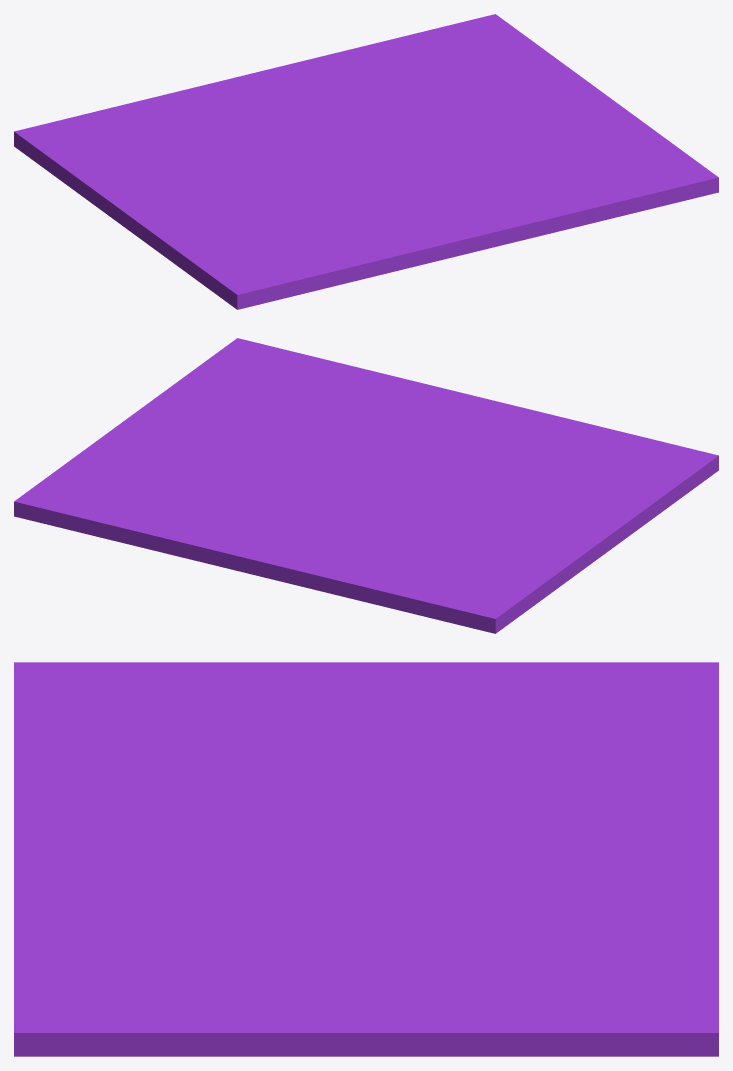
The model's file is Platform_17_chunks.fbx.
The picture shows the model from 3 angles, top to bottom: view 1: azimuth 30°, elevation 25°; view 2: azimuth 150°, elevation 25°; view 3: azimuth 270°, elevation 25°; orthographic projection. The views are drawn at different scales.
Parts seen in each view (by area): view 1: Platform_17_8, Platform_17_13, Platform_17_11, Platform_17_1, Platform_17_14, Platform_17_7, Platform_17_9, Platform_17_16, Platform_17_0, Platform_17_15, Platform_17_3, Platform_17_6 (+6 smaller); view 2: Platform_17_1, Platform_17_8, Platform_17_11, Platform_17_7, Platform_17_0, Platform_17_13, Platform_17_14, Platform_17_9, Platform_17_16, Platform_17_15, Platform_17_3, Platform_17_6 (+6 smaller); view 3: Platform_17_1, Platform_17_13, Platform_17_14, Platform_17_8, Platform_17_11, Platform_17_7, Platform_17_9, Platform_17_0, Platform_17_16, Platform_17_3, Platform_17_15, Platform_17_5 (+6 smaller).
Part boxes in pixels (x1=…): Platform_17_8: x1=267, y1=178, x2=422, y2=301; Platform_17_13: x1=506, y1=140, x2=718, y2=237; Platform_17_11: x1=371, y1=165, x2=543, y2=264; Platform_17_1: x1=167, y1=39, x2=391, y2=123; Platform_17_14: x1=474, y1=95, x2=667, y2=169; Platform_17_7: x1=407, y1=14, x2=558, y2=97; Platform_17_9: x1=72, y1=144, x2=374, y2=196; Platform_17_16: x1=22, y1=143, x2=218, y2=224; Platform_17_0: x1=14, y1=94, x2=225, y2=151; Platform_17_15: x1=121, y1=210, x2=269, y2=309; Platform_17_3: x1=198, y1=120, x2=384, y2=156; Platform_17_6: x1=382, y1=94, x2=568, y2=146; Platform_17_1: x1=118, y1=493, x2=373, y2=595; Platform_17_8: x1=411, y1=412, x2=688, y2=483; Platform_17_11: x1=327, y1=381, x2=540, y2=468; Platform_17_7: x1=14, y1=454, x2=206, y2=535; Platform_17_0: x1=338, y1=542, x2=510, y2=633; Platform_17_13: x1=187, y1=338, x2=412, y2=419; Platform_17_14: x1=125, y1=375, x2=327, y2=453; Platform_17_9: x1=373, y1=463, x2=502, y2=590; Platform_17_16: x1=493, y1=518, x2=602, y2=627; Platform_17_15: x1=575, y1=448, x2=718, y2=554; Platform_17_3: x1=299, y1=476, x2=441, y2=545; Platform_17_6: x1=161, y1=430, x2=340, y2=490; Platform_17_1: x1=495, y1=779, x2=718, y2=952; Platform_17_13: x1=14, y1=898, x2=207, y2=1056; Platform_17_14: x1=173, y1=909, x2=375, y2=1056; Platform_17_8: x1=14, y1=685, x2=285, y2=833; Platform_17_11: x1=14, y1=799, x2=310, y2=916; Platform_17_7: x1=437, y1=937, x2=718, y2=1054; Platform_17_9: x1=283, y1=685, x2=629, y2=843; Platform_17_0: x1=515, y1=662, x2=718, y2=790; Platform_17_16: x1=337, y1=662, x2=669, y2=738; Platform_17_3: x1=361, y1=753, x2=576, y2=880; Platform_17_15: x1=14, y1=662, x2=378, y2=703; Platform_17_5: x1=340, y1=977, x2=718, y2=1056.
Size of the model in its own units: 1009 by 29.87 by 810.
